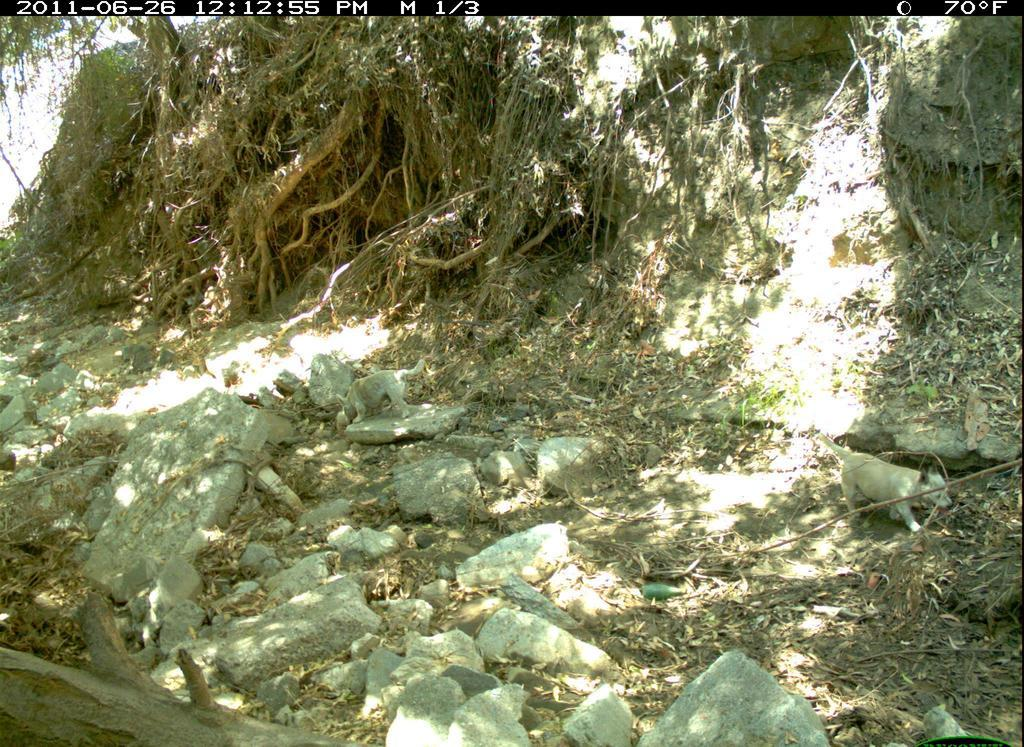dog: (813, 425, 962, 536)
